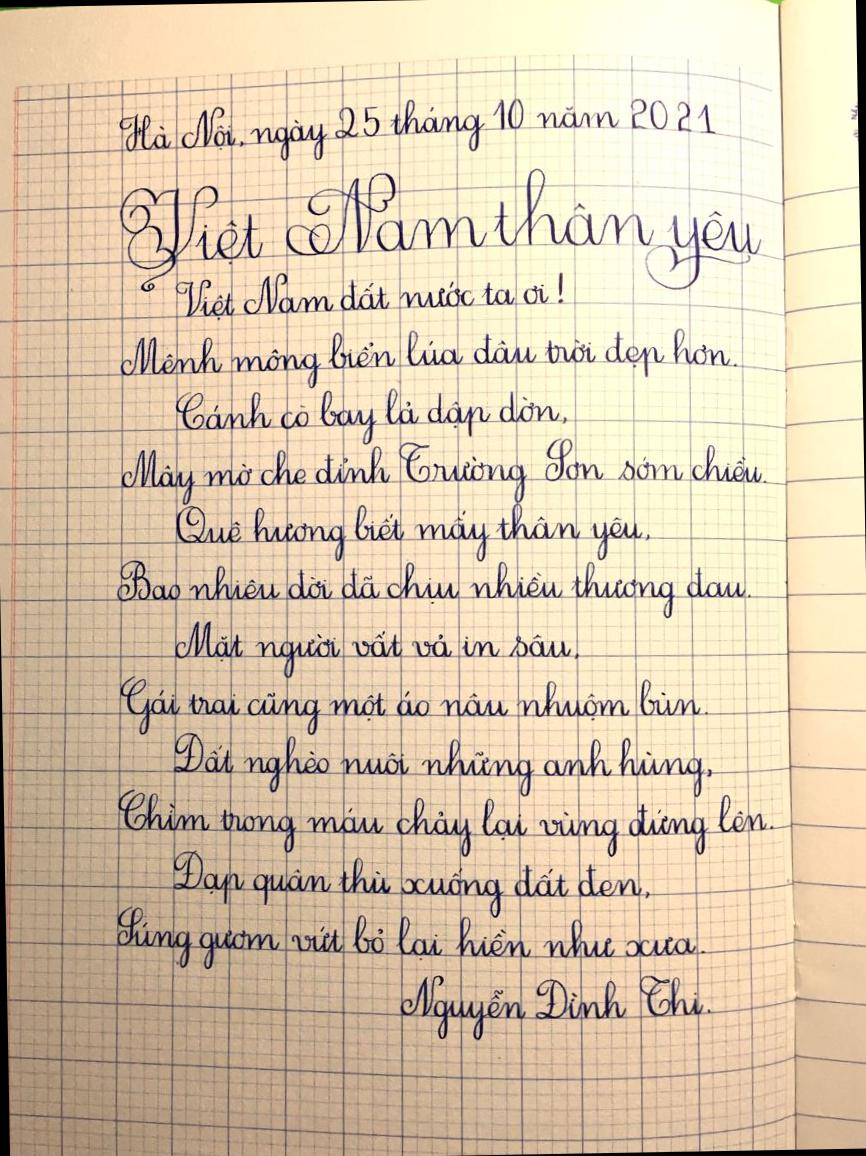text: (114, 159, 768, 300), (114, 772, 772, 862), (113, 545, 758, 634), (116, 430, 772, 513), (166, 721, 720, 811), (116, 320, 740, 396), (117, 91, 721, 168), (116, 663, 712, 740), (168, 839, 653, 929), (171, 492, 655, 569), (171, 608, 582, 686), (172, 380, 570, 447), (173, 262, 568, 327)
